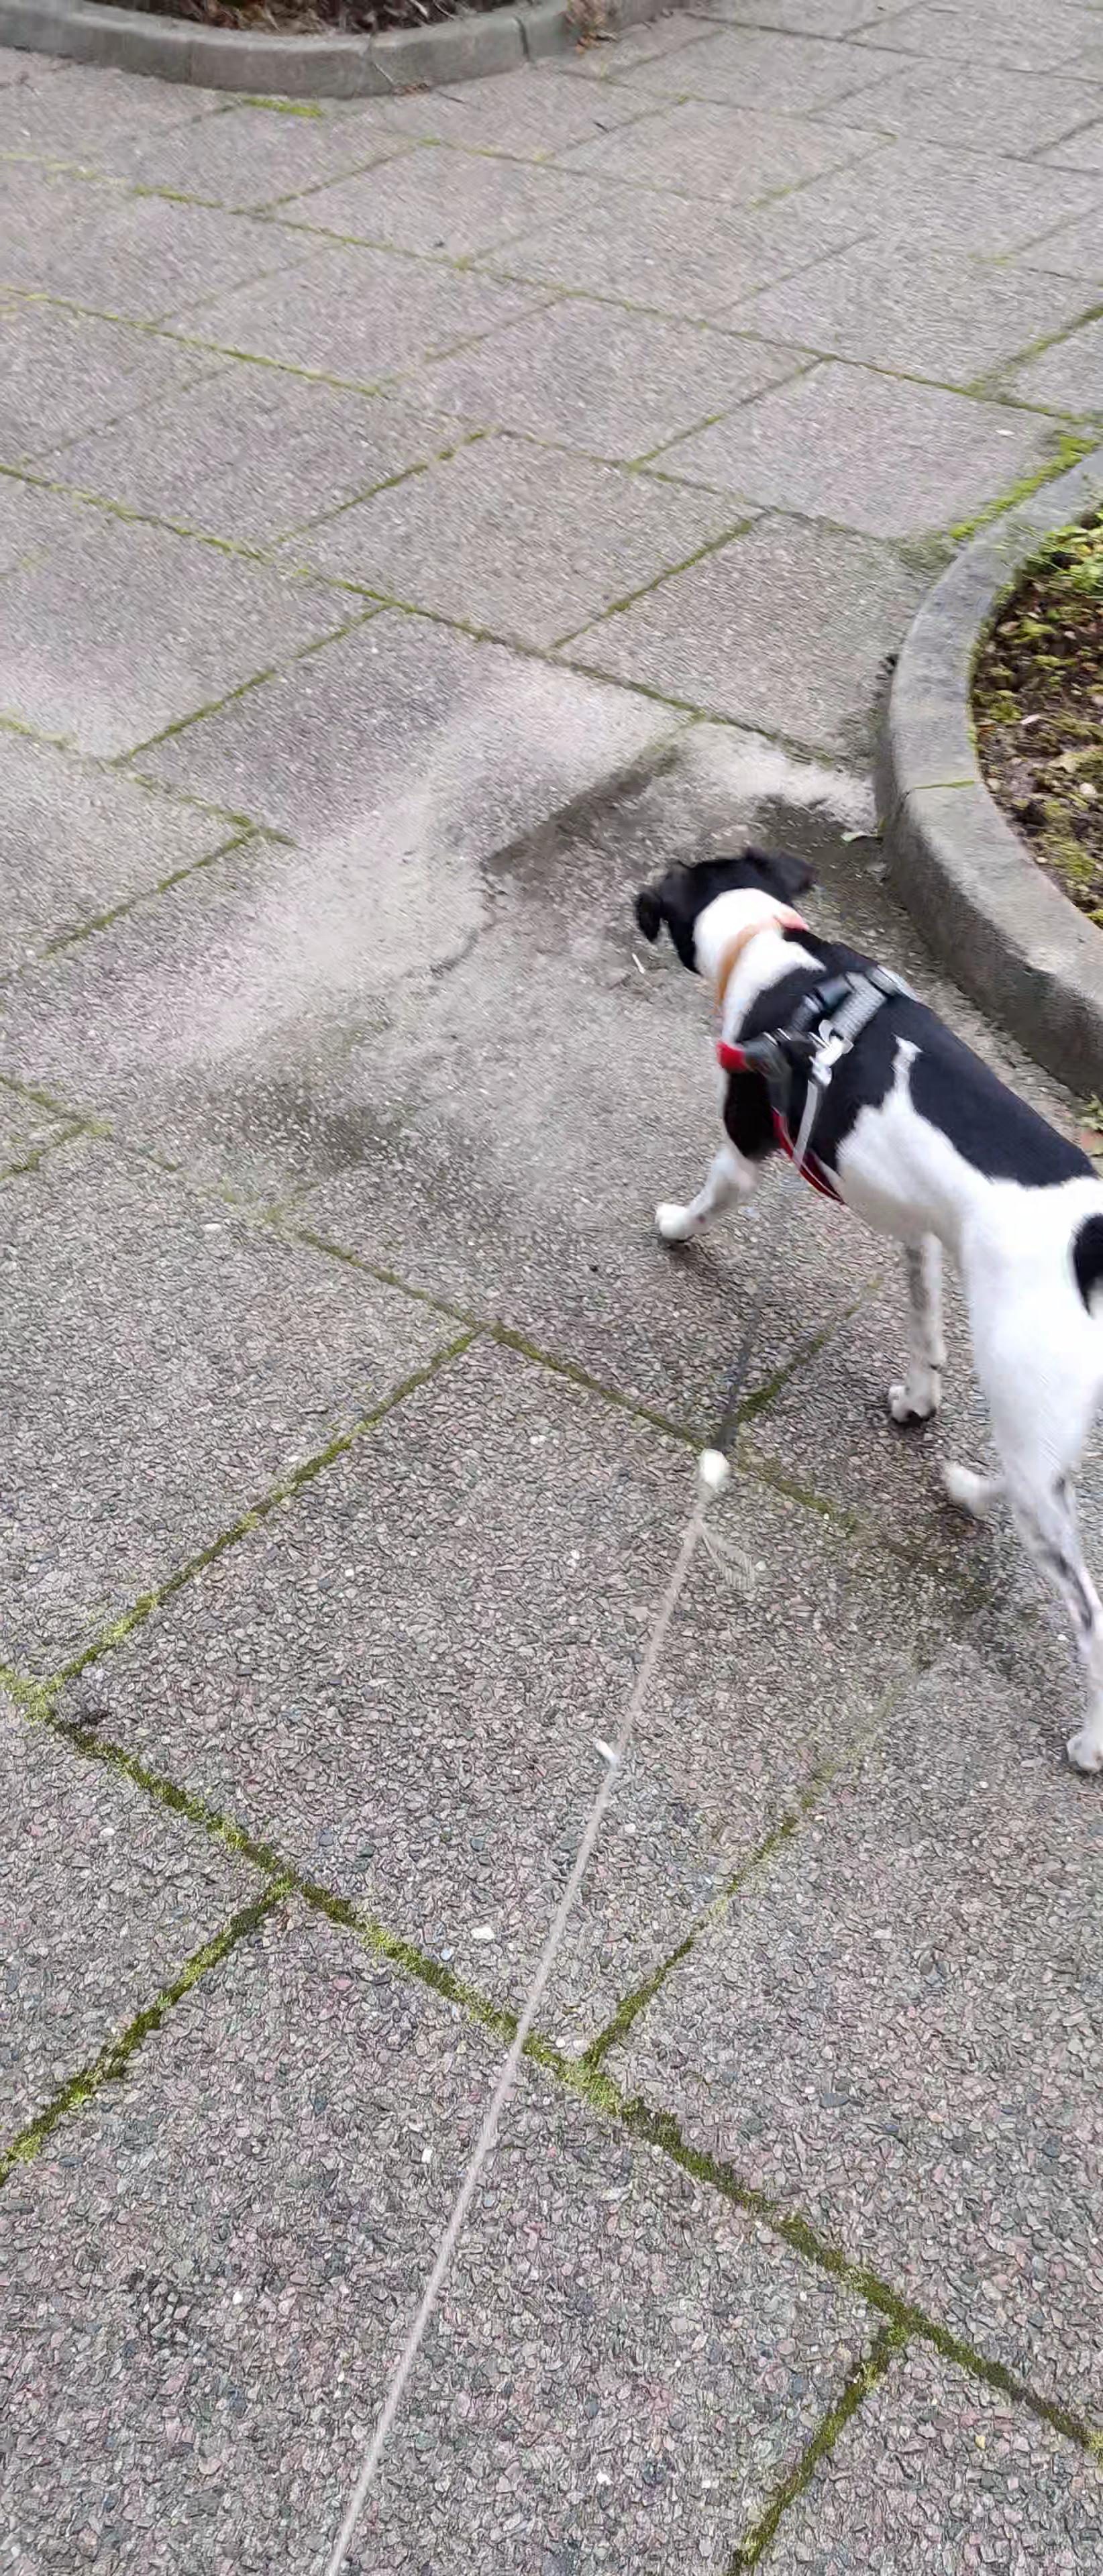Dog: (615, 836, 1103, 1784)
